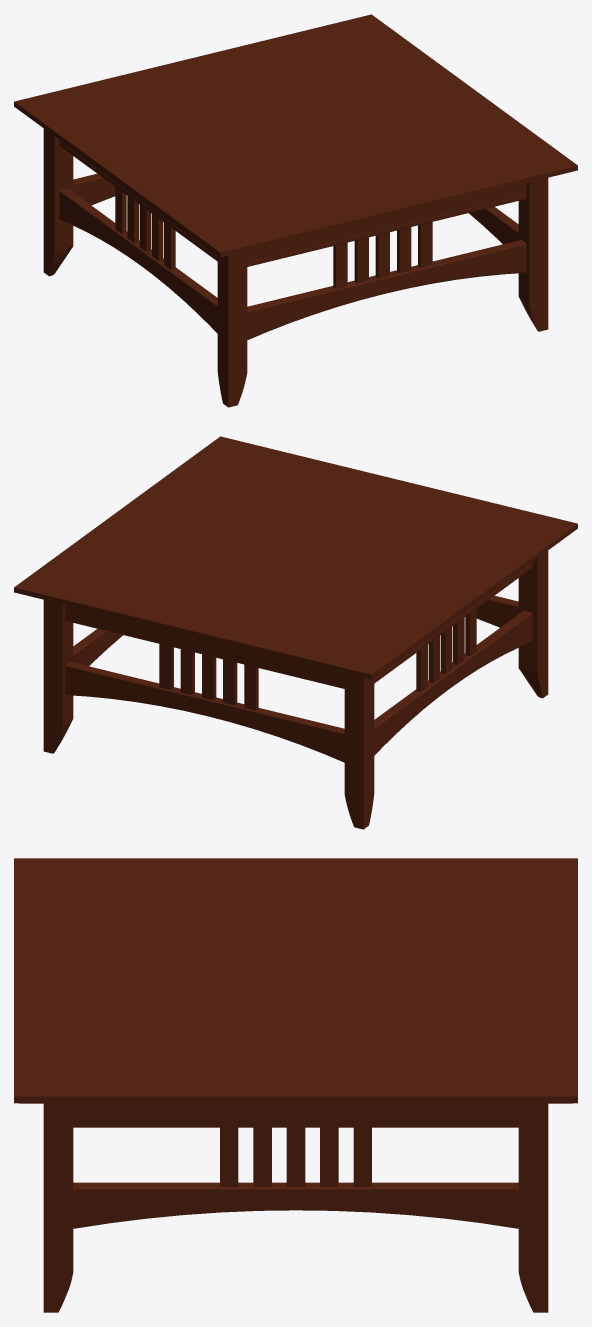
File: Coffee+Table+Square.fbx
3 renders of one model, top to bottom at view 1: azimuth 30°, elevation 25°; view 2: azimuth 150°, elevation 25°; view 3: azimuth 270°, elevation 25°, orthographic. The views are drawn at different scales.
Visible parts, largest first — view 1: Group2, Bottom_Skirt2, Top_Skirt2, Leg1, Bottom_Skirt3, Leg2, Leg4, Top_Skirt3, Bottom_Skirt1, Bottom_Skirt4, Slat7, Slat6 (+8 smaller); view 2: Group2, Bottom_Skirt4, Top_Skirt4, Leg4, Bottom_Skirt3, Leg3, Leg1, Top_Skirt3, Bottom_Skirt1, Bottom_Skirt2, Slat17, Slat16 (+8 smaller); view 3: Group2, Bottom_Skirt1, Top_Skirt1, Leg2, Leg3, Slat5, Slat2, Slat4, Slat1, Slat3.
Part boxes in pixels (x1=…): Group2: x1=14, y1=14, x2=577, y2=257; Bottom_Skirt2: x1=247, y1=240, x2=526, y2=339; Top_Skirt2: x1=247, y1=183, x2=526, y2=266; Leg1: x1=217, y1=251, x2=247, y2=407; Bottom_Skirt3: x1=59, y1=188, x2=217, y2=333; Leg2: x1=518, y1=178, x2=548, y2=331; Leg4: x1=43, y1=128, x2=73, y2=276; Top_Skirt3: x1=59, y1=140, x2=217, y2=261; Bottom_Skirt1: x1=469, y1=207, x2=518, y2=244; Bottom_Skirt4: x1=73, y1=173, x2=115, y2=205; Slat7: x1=397, y1=227, x2=411, y2=273; Slat6: x1=418, y1=222, x2=432, y2=267; Group2: x1=14, y1=436, x2=577, y2=679; Bottom_Skirt4: x1=65, y1=662, x2=344, y2=762; Top_Skirt4: x1=65, y1=605, x2=344, y2=688; Leg4: x1=344, y1=673, x2=374, y2=829; Bottom_Skirt3: x1=374, y1=610, x2=532, y2=755; Leg3: x1=43, y1=600, x2=73, y2=753; Leg1: x1=518, y1=550, x2=548, y2=698; Top_Skirt3: x1=374, y1=562, x2=532, y2=683; Bottom_Skirt1: x1=73, y1=629, x2=122, y2=666; Bottom_Skirt2: x1=476, y1=595, x2=518, y2=627; Slat17: x1=180, y1=649, x2=194, y2=695; Slat16: x1=159, y1=644, x2=173, y2=689; Group2: x1=14, y1=858, x2=577, y2=1103; Bottom_Skirt1: x1=73, y1=1182, x2=518, y2=1228; Top_Skirt1: x1=73, y1=1103, x2=518, y2=1127; Leg2: x1=43, y1=1103, x2=73, y2=1312; Leg3: x1=518, y1=1103, x2=548, y2=1312; Slat5: x1=286, y1=1127, x2=305, y2=1186; Slat2: x1=253, y1=1127, x2=271, y2=1186; Slat4: x1=320, y1=1127, x2=338, y2=1186; Slat1: x1=220, y1=1127, x2=238, y2=1186; Slat3: x1=353, y1=1127, x2=371, y2=1186.
Bounding box in the file's own units: 96.52 × 43.18 × 96.52.
